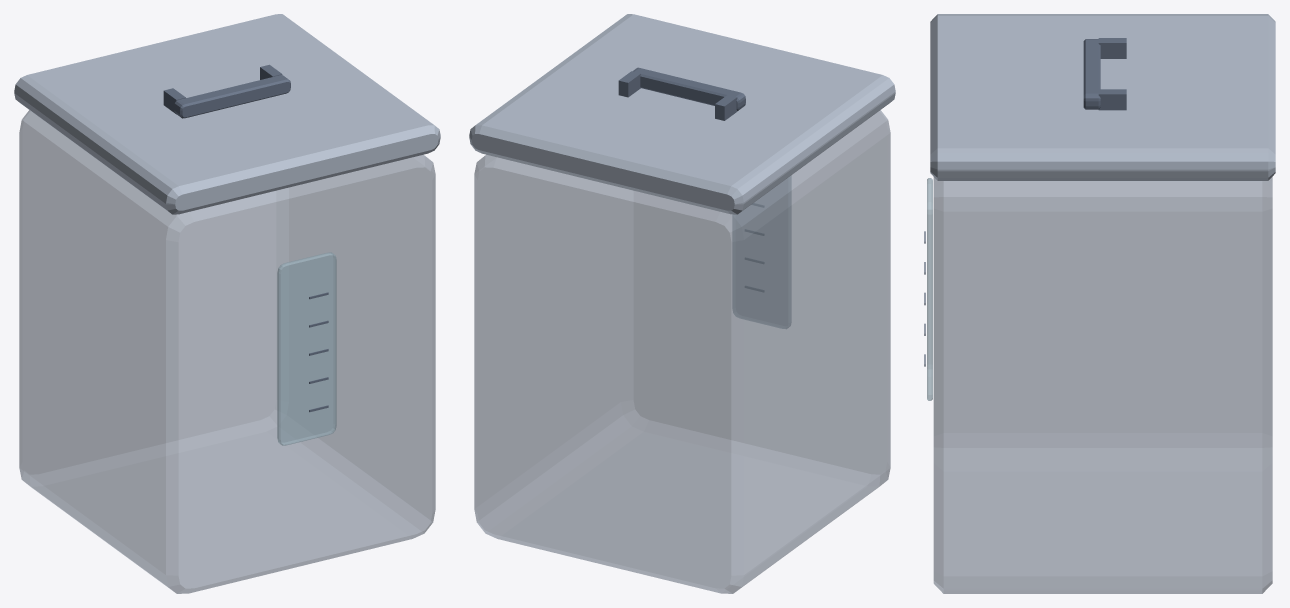
File: rice-bin-lite.glb
3 views of the same model, side by side, from view 1: azimuth 30°, elevation 25°; view 2: azimuth 150°, elevation 25°; view 3: azimuth 270°, elevation 25° (orthographic). The views are drawn at different scales.
Visible parts, largest first — view 1: body, soft, glass, dark; view 2: body, soft, glass, dark; view 3: body, soft, dark, glass.
Boxes of the visible parts, bbox=[...] form: body: bbox=[19, 110, 435, 593]; soft: bbox=[14, 14, 440, 214]; glass: bbox=[277, 252, 336, 445]; dark: bbox=[163, 64, 328, 412]; body: bbox=[474, 110, 890, 593]; soft: bbox=[469, 14, 895, 214]; glass: bbox=[732, 176, 791, 328]; dark: bbox=[618, 67, 745, 120]; body: bbox=[933, 177, 1272, 593]; soft: bbox=[930, 14, 1275, 180]; dark: bbox=[924, 38, 1126, 366]; glass: bbox=[927, 178, 932, 400].
Size of the model in its own units: 0.285 by 0.4235 by 0.29.
